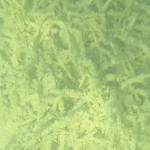dead: (2, 1, 143, 145)
